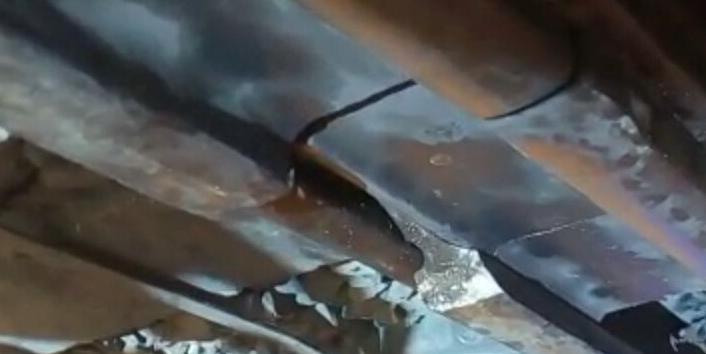error2: (214, 21, 632, 229)
